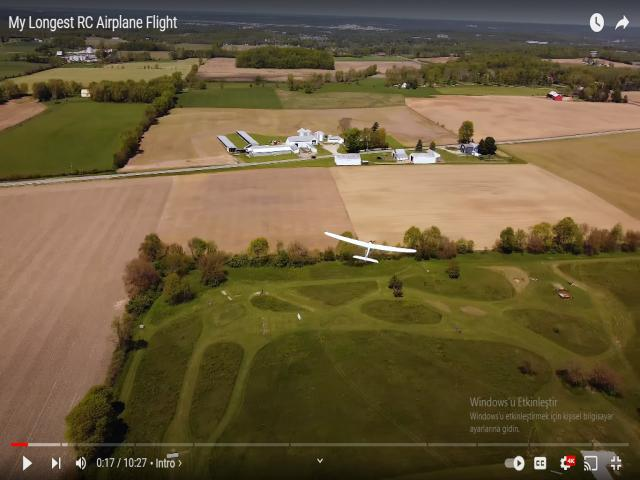plane: (326, 231, 416, 265)
